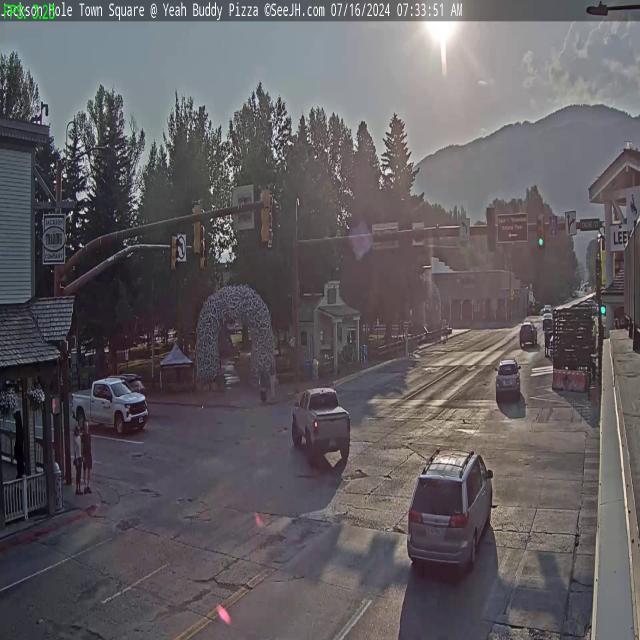person: (81, 409, 92, 496), (72, 419, 82, 496), (268, 357, 277, 398), (259, 360, 268, 400), (544, 325, 550, 358)
pickup: (291, 385, 353, 468), (74, 374, 150, 439)
suv: (404, 446, 497, 578), (495, 357, 520, 402), (519, 320, 536, 347)
traffic light: (260, 184, 274, 246), (191, 200, 203, 257), (487, 207, 496, 252), (170, 234, 179, 273), (537, 214, 545, 248)
